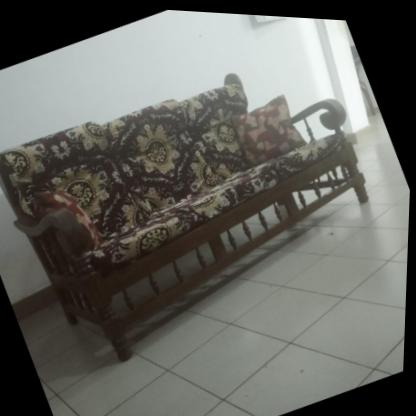Sofa: (0, 10, 410, 394)
